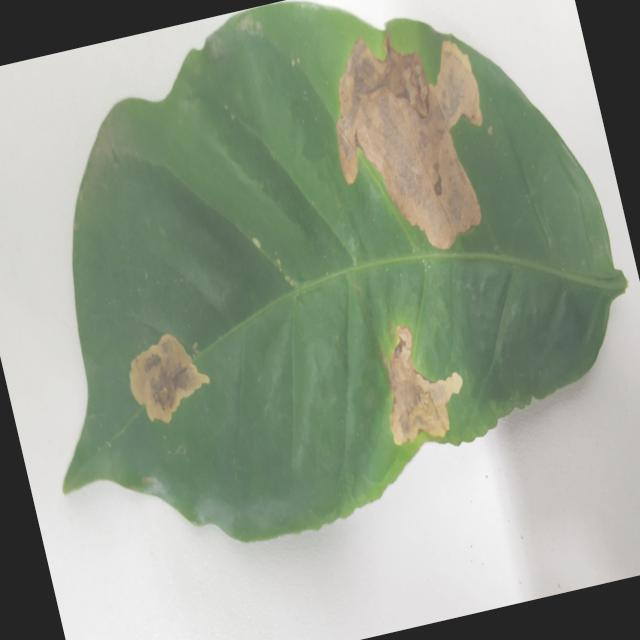PengorokDaunKopi: (336, 32, 482, 249), (389, 326, 462, 444), (129, 333, 209, 422)
